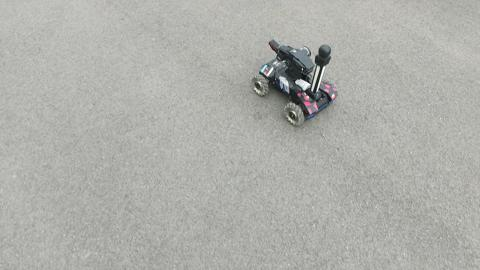chariot: (251, 39, 338, 126)
